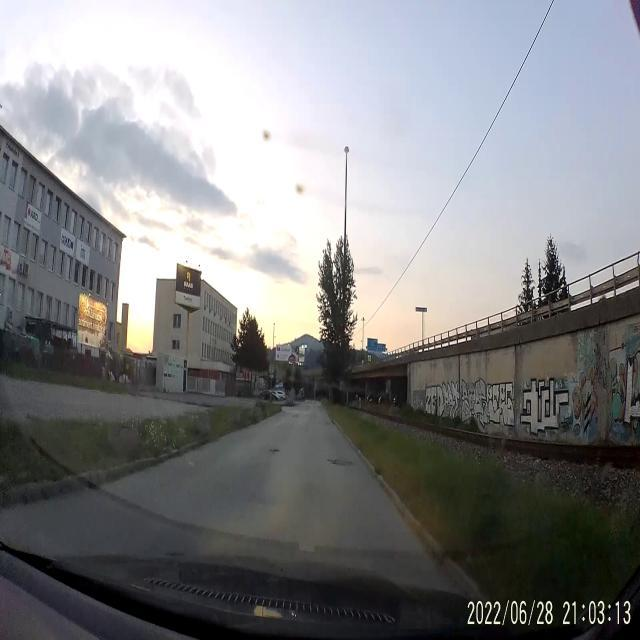Pothole: (326, 452, 353, 472), (268, 442, 280, 458)
